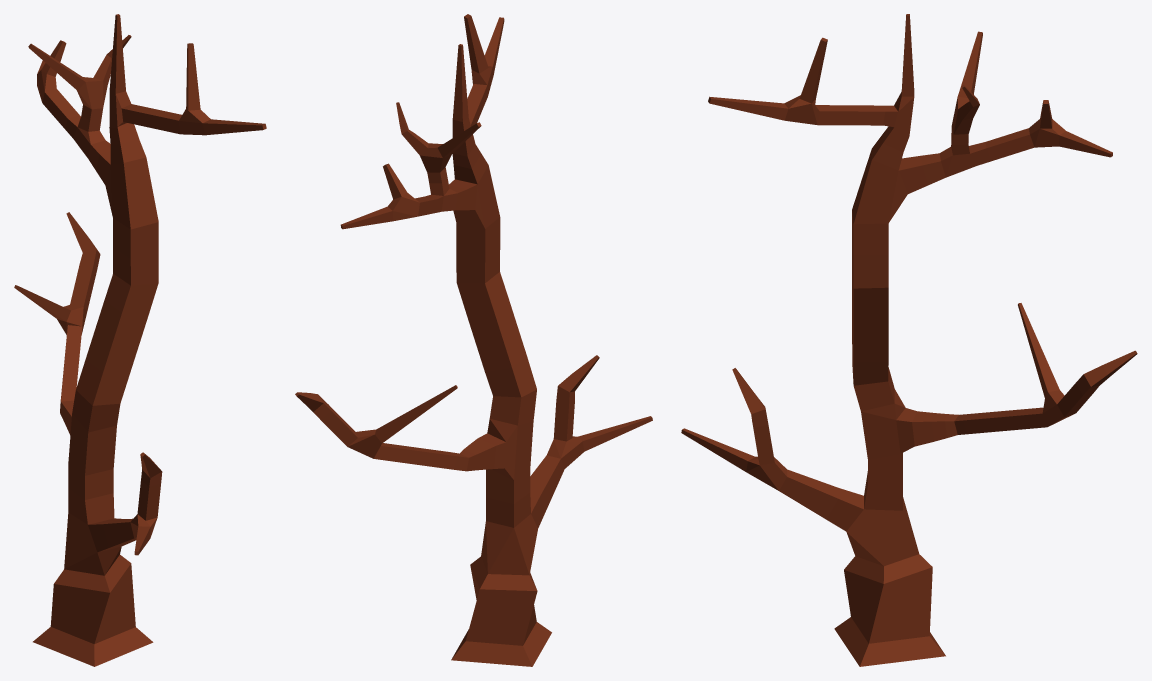
File: stvol.fbx
3 renders of one model, left to right at view 1: azimuth 30°, elevation 25°; view 2: azimuth 150°, elevation 25°; view 3: azimuth 270°, elevation 25°, orthographic. The views are drawn at different scales.
Visible parts, largest first — view 1: Plane; view 2: Plane; view 3: Plane.
Boxes of the visible parts, bbox=[...] form: Plane: bbox=[14, 14, 266, 666]; Plane: bbox=[295, 14, 652, 666]; Plane: bbox=[681, 14, 1137, 666].
Size of the model in its own units: 66.86 by 246 by 158.
